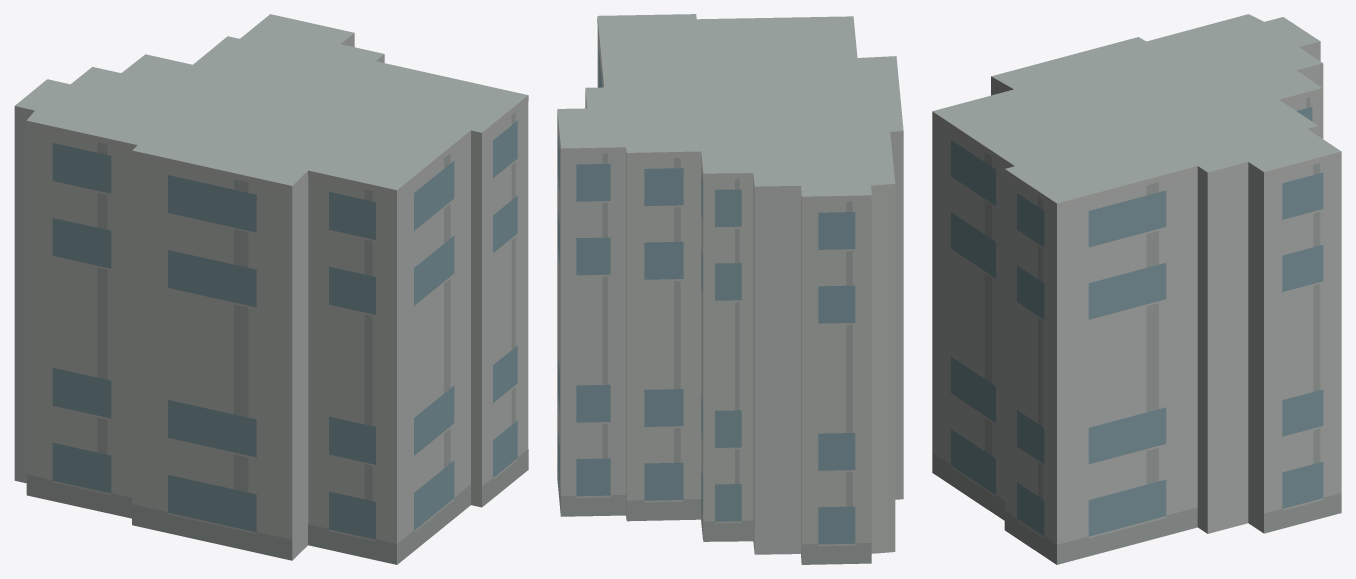
File: survey-upis-32775326.glb
3 views of the same model, side by side, from view 1: azimuth 30°, elevation 25°; view 2: azimuth 150°, elevation 25°; view 3: azimuth 270°, elevation 25° (orthographic). The views are drawn at different scales.
Parts seen in each view (by area): view 1: survey-upis-32775326.tmp; view 2: survey-upis-32775326.tmp; view 3: survey-upis-32775326.tmp.
Part boxes in pixels (x1,y1,x2,y2): survey-upis-32775326.tmp: (14,14,528,564); survey-upis-32775326.tmp: (557,14,903,564); survey-upis-32775326.tmp: (932,14,1341,564).
Size of the model in its own units: 16.87 by 15 by 15.41.
